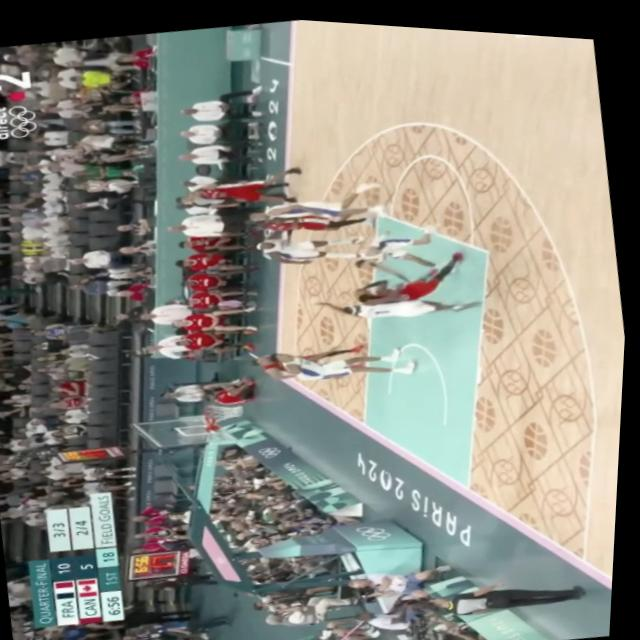ball_handler: (351, 242, 477, 308)
